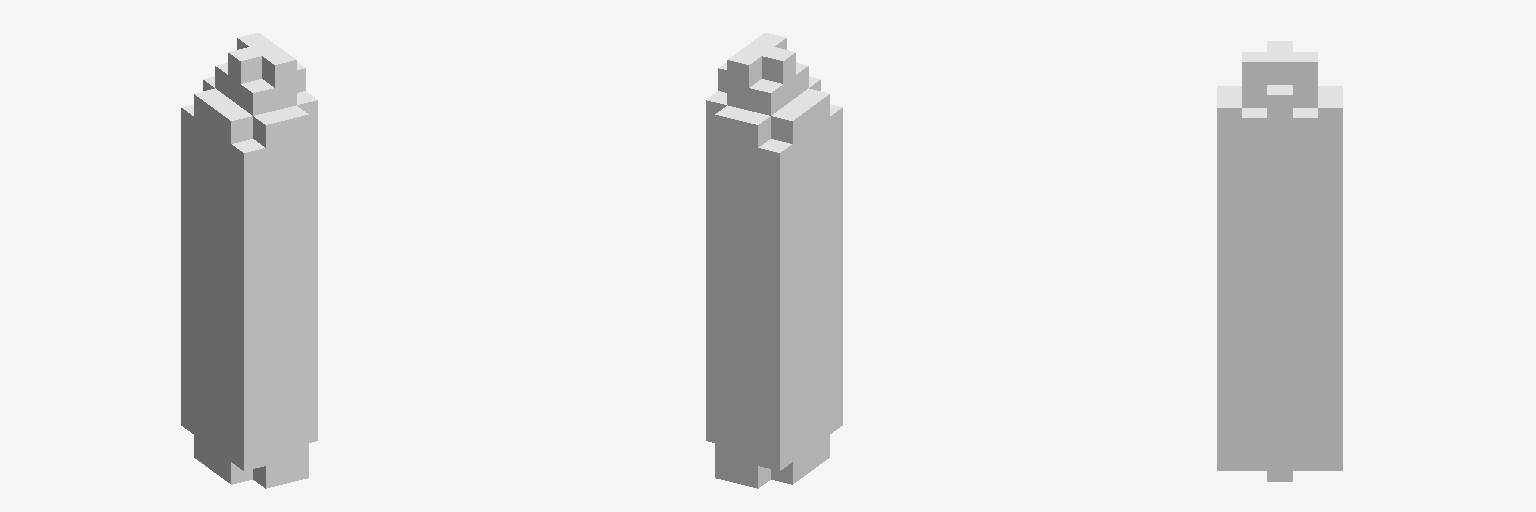
The model's file is LFOOT.obj.
3 views of the same model, side by side, from view 1: azimuth 30°, elevation 25°; view 2: azimuth 150°, elevation 25°; view 3: azimuth 270°, elevation 25° (orthographic).
Parts seen in each view (by area): view 1: object 1; view 2: object 1; view 3: object 1.
Boxes of the visible parts, box(x1,y1,x2,y2) form: object 1: box(181, 33, 317, 488); object 1: box(706, 33, 842, 488); object 1: box(1217, 41, 1342, 481).
Size of the model in its own units: 0.4 by 1.8 by 0.5.